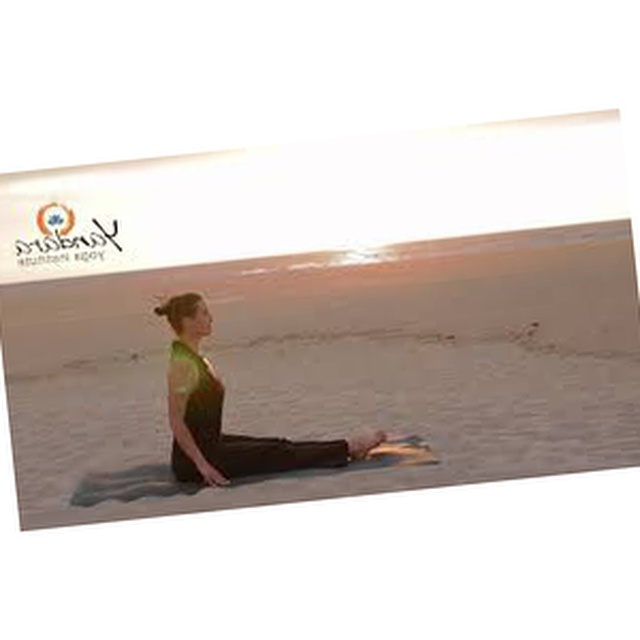Staff_Pose: (152, 291, 389, 487)
